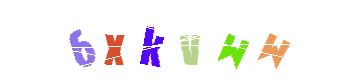6: (44, 0, 124, 80)
K: (140, 0, 220, 80)
V: (153, 0, 233, 80)
W: (158, 0, 238, 80), (193, 0, 273, 80)
X: (111, 0, 191, 80)
